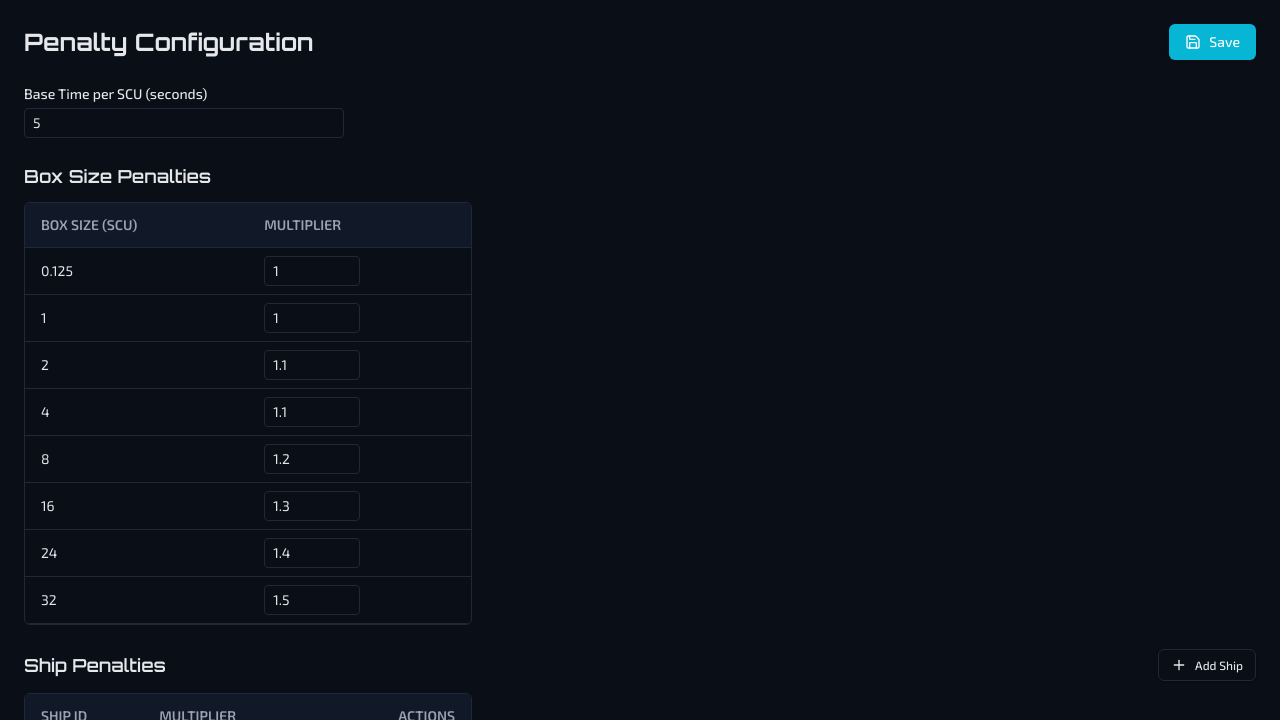
Test: PenaltyConfigPage › add ship penalty button shows search input
This screenshot has width=1280, height=720.
Expected: the heading "Penalty Configuration" is shown, x1=24 y1=26 x2=313 y2=58
Click the button with aria-label "Add ship penalty" at coordinates (1207, 665), box x1=1158 y1=649 x2=1256 y2=681
(page scrolled)
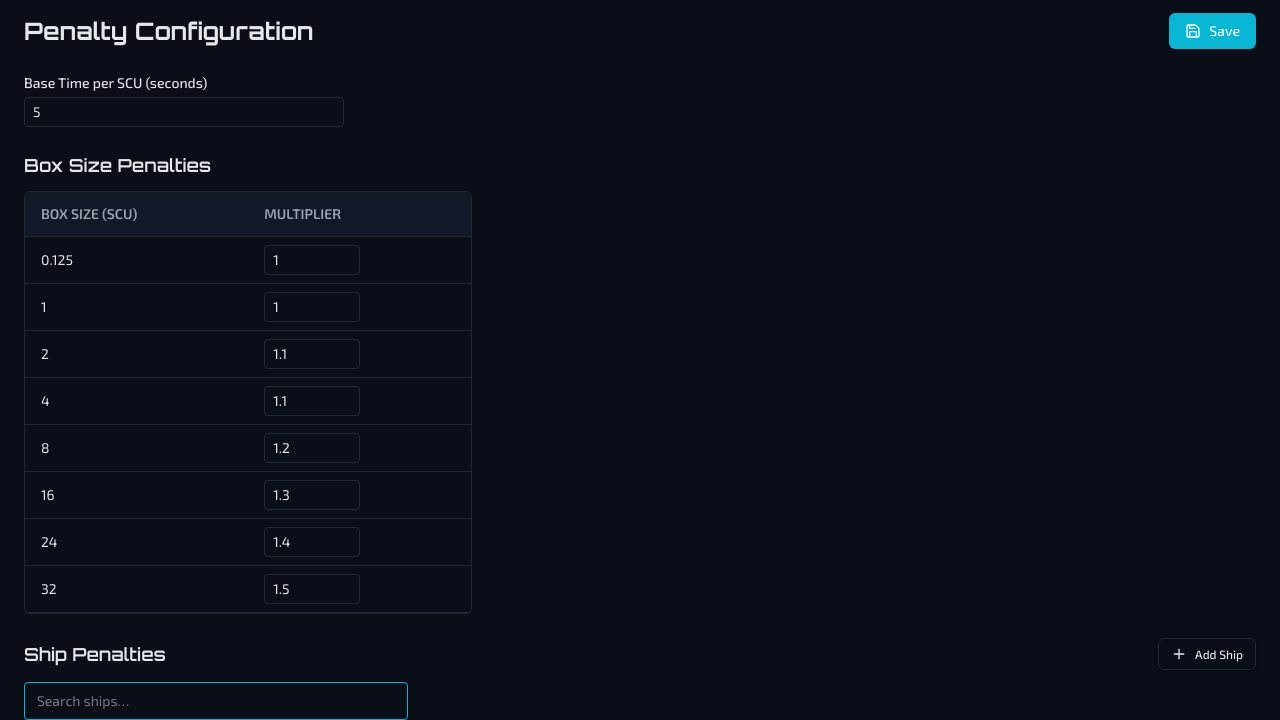
Expected: the field with placeholder "Search ships…" is shown, x1=24 y1=682 x2=408 y2=719
